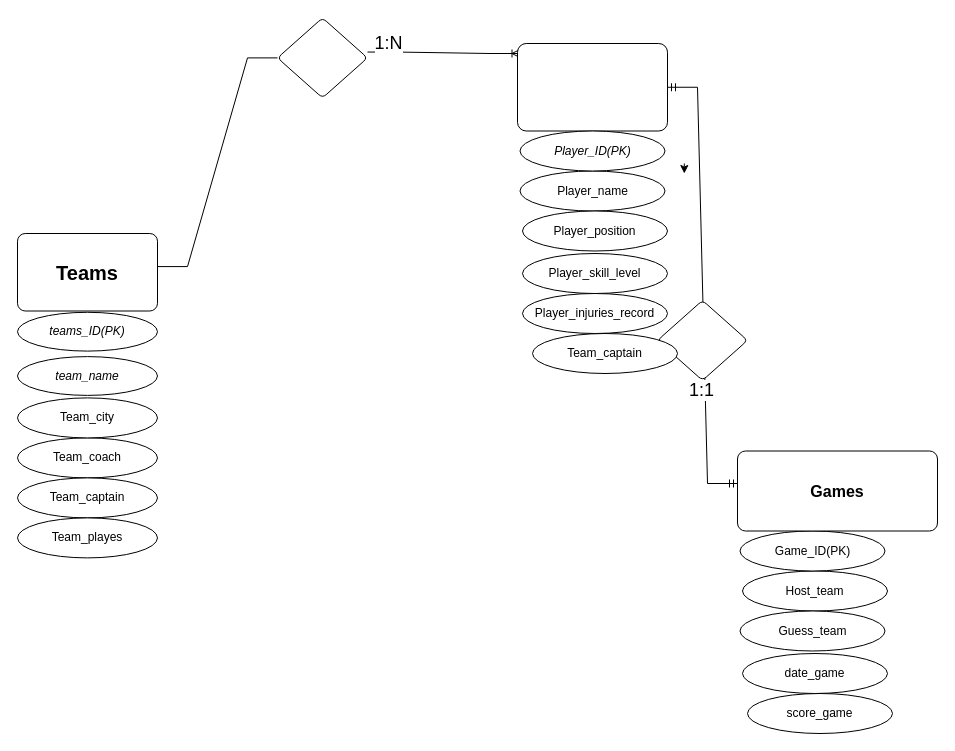
Some shapes in this 955 by 751 pixel diagram are drawn without their labels. The shapes that lost their labels are listed below. From the top down, each one's centre as x and y in pixels, then its label:
point 322,57: Belongs
point 592,86: Players
point 702,339: Play
